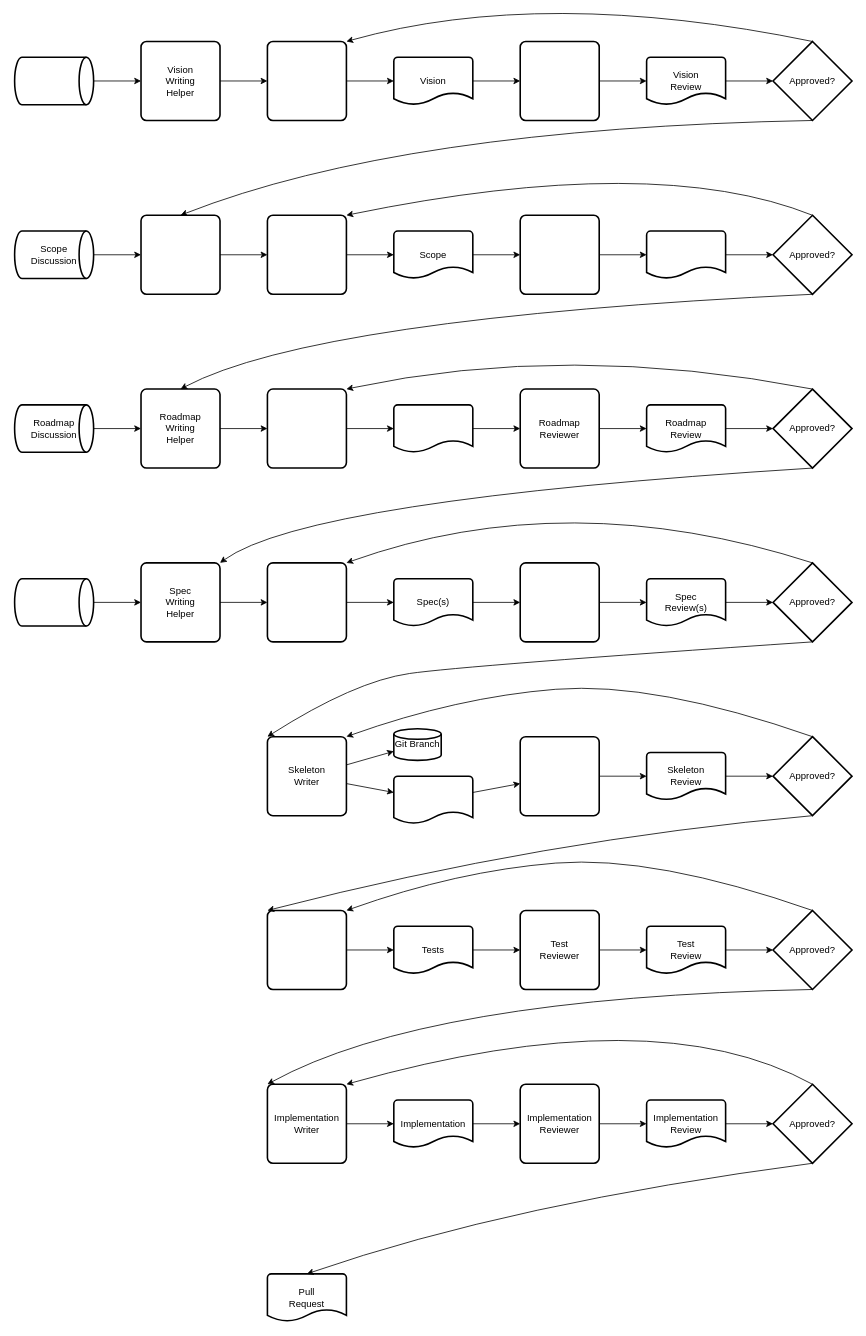
This 866x1336 diagram has some shape labels left out. Each missing label, with the centre of its shape:
"Interface Skeleton" belongs at [433,799].
"Roadmap" belongs at [433,428].
"Roadmap Writer" belongs at [306,428].
"Scope Review" belongs at [685,254].
"Scope Reviewer" belongs at [559,254].
"Scope Writer" belongs at [306,254].
"Scope Writing Helper" belongs at [180,254].
"Skeleton Reviewer" belongs at [559,775].
"Spec Discussion" belongs at [53,601].
"Spec Reviewer" belongs at [559,602].
"Spec Writer" belongs at [306,602].
"Test Writer" belongs at [306,949].
"Vision Discussion" belongs at [53,80].
"Vision Reviewer" belongs at [559,80].
"Vision Writer" belongs at [306,80].
